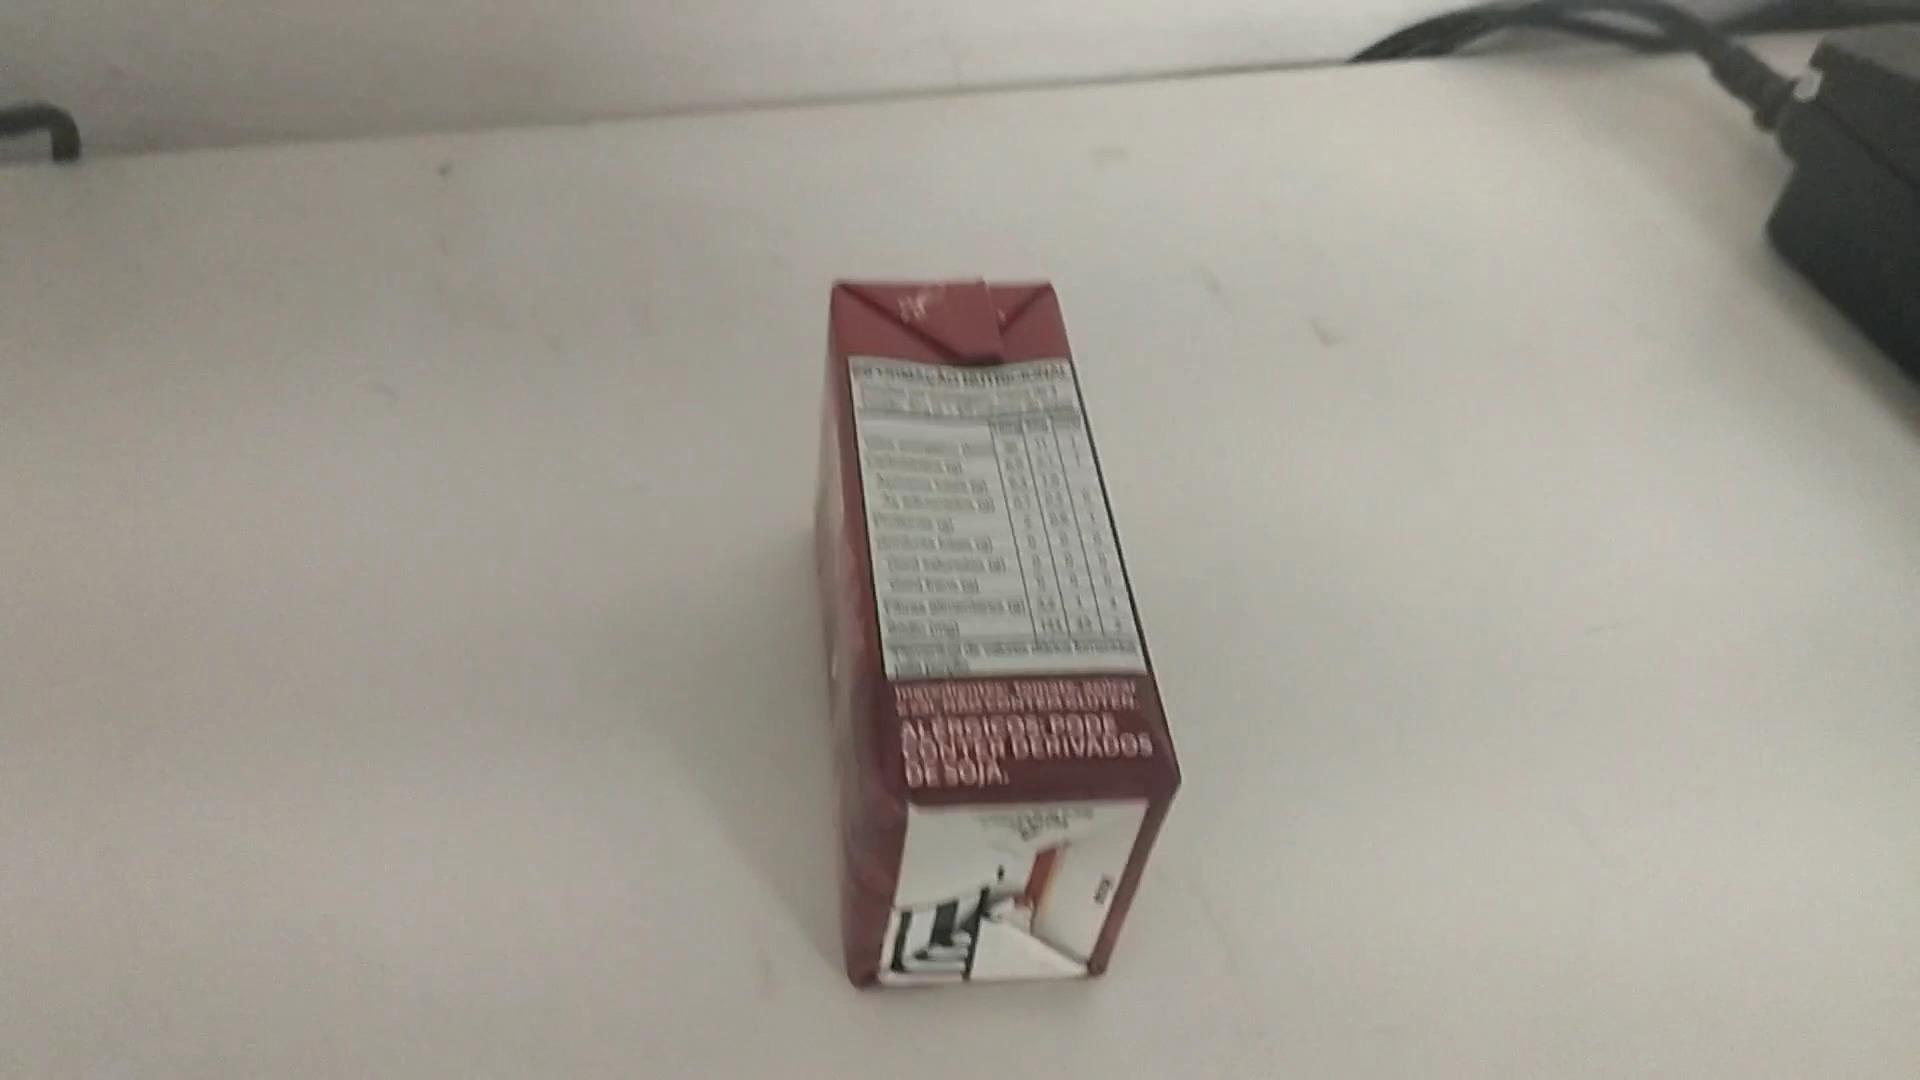tomate: (823, 284, 1178, 996)
